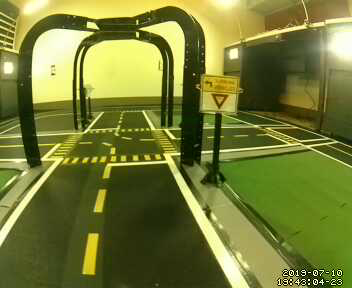Turn Yield: (198, 71, 241, 117)
